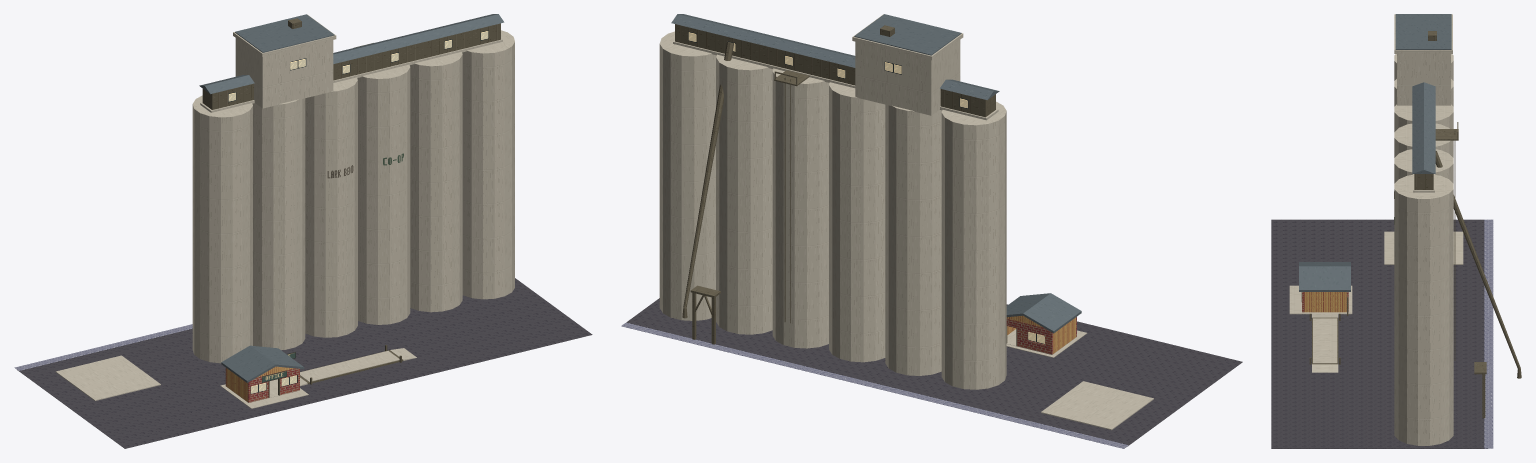
Rendered from lark-bend-1990-far.glb.
3 renders of one model, left to right at view 1: azimuth 30°, elevation 25°; view 2: azimuth 150°, elevation 25°; view 3: azimuth 270°, elevation 25°, orthographic. The views are drawn at different scales.
Visible parts, largest first — view 1: concrete_elevator, lot, scale_office; view 2: concrete_elevator, lot, scale_office; view 3: lot, concrete_elevator, scale_office.
Part boxes in pixels (<box>): concrete_elevator: <box>192,14,514,363</box>; lot: <box>14,278,592,448</box>; scale_office: <box>221,345,304,402</box>; concrete_elevator: <box>659,14,1006,389</box>; lot: <box>621,298,1242,448</box>; scale_office: <box>1006,293,1081,354</box>; lot: <box>1271,219,1493,448</box>; concrete_elevator: <box>1394,14,1521,445</box>; scale_office: <box>1299,262,1350,312</box>.
Size of what is drawn, in the model's own units: 71 by 44.71 by 32.8.
Materials: 9 (9 with a texture image).
